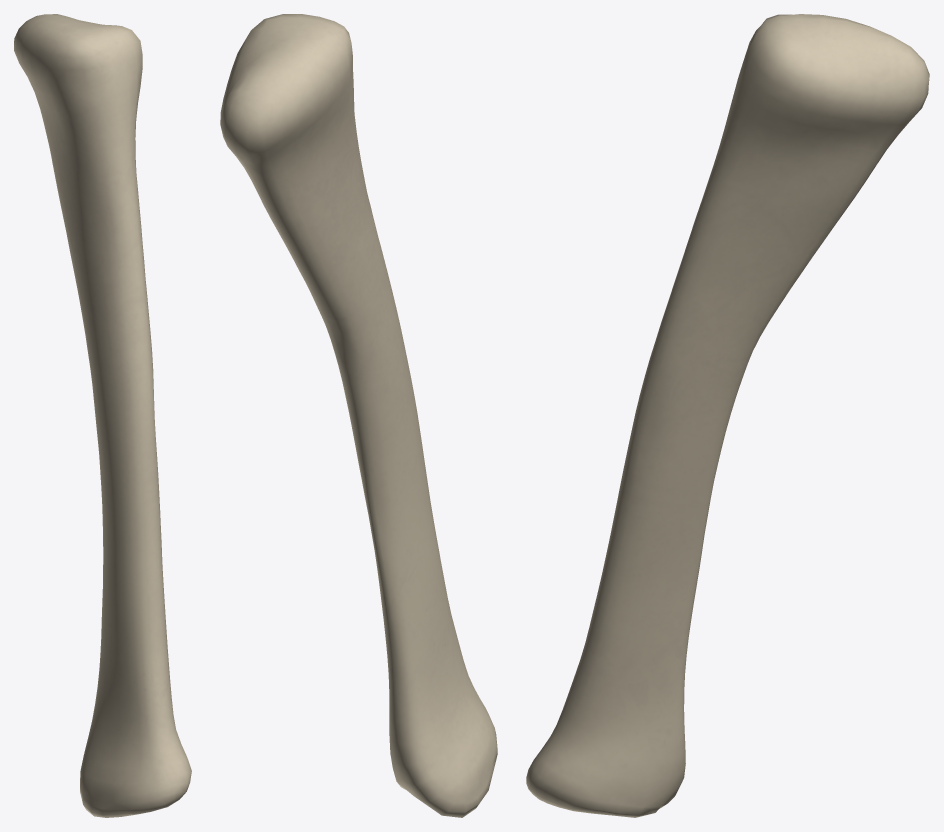
Rendered from R metacarpi tertium.fbx.
The picture shows the model from 3 angles, left to right: view 1: azimuth 30°, elevation 25°; view 2: azimuth 150°, elevation 25°; view 3: azimuth 270°, elevation 25°; orthographic projection. The views are drawn at different scales.
Visible parts, largest first — view 1: R metacarpi tertium; view 2: R metacarpi tertium; view 3: R metacarpi tertium.
Part boxes in pixels (left/top/right/bottom): R metacarpi tertium: left=14, top=14, right=191, bottom=817; R metacarpi tertium: left=220, top=14, right=497, bottom=817; R metacarpi tertium: left=526, top=14, right=929, bottom=817.
Size of the model in its own units: 2.25 by 12.46 by 5.53.
